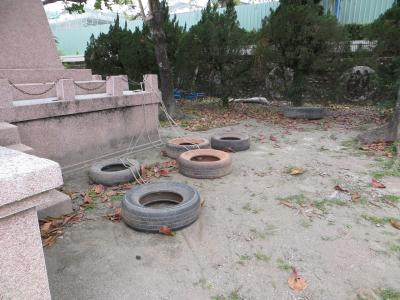tire: (119, 180, 202, 235), (177, 147, 234, 180), (84, 153, 139, 187), (162, 135, 209, 160), (209, 131, 253, 152)
